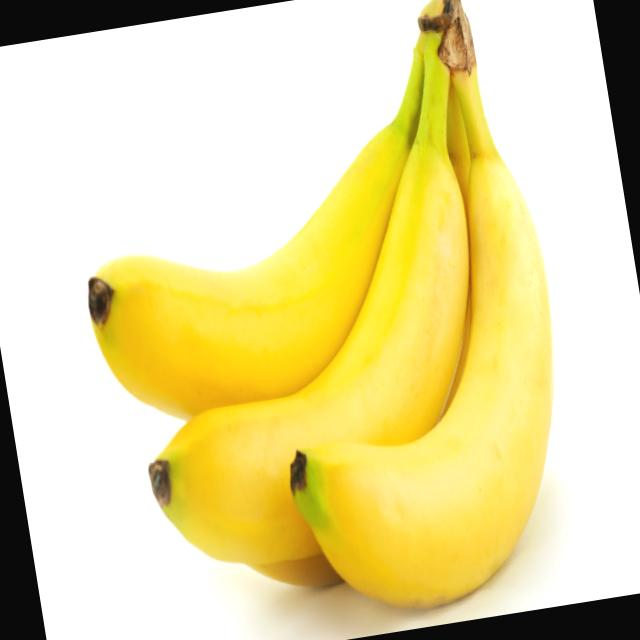banana: (97, 129, 514, 572), (253, 135, 594, 632), (51, 82, 472, 428)
